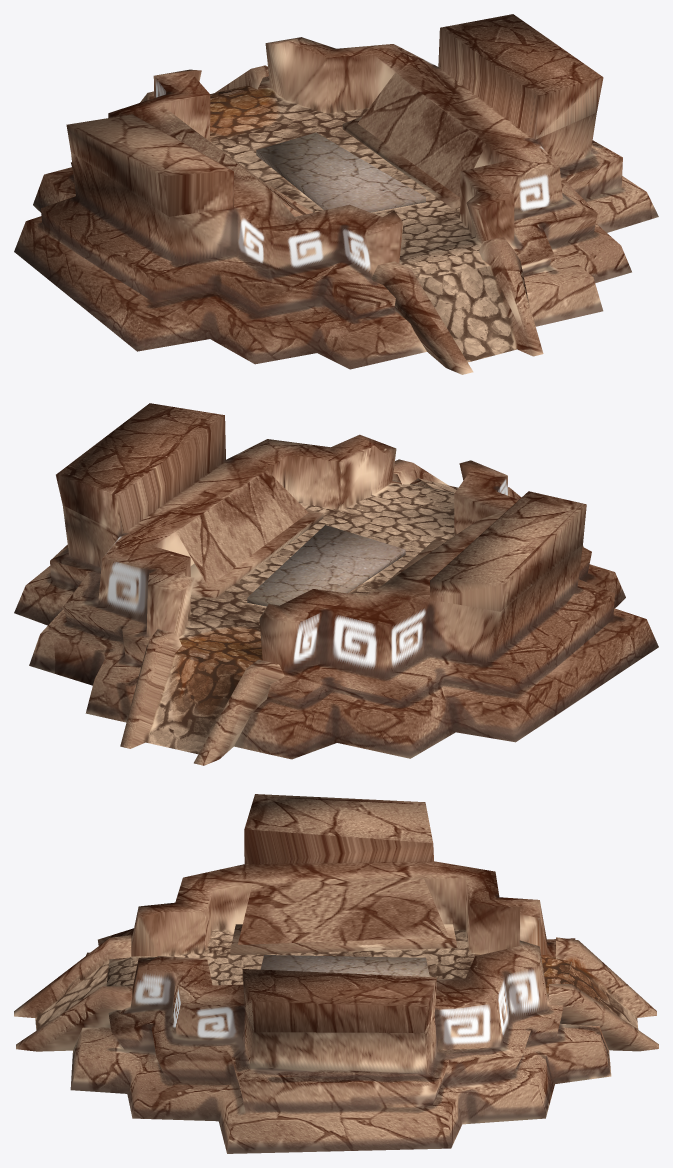
File: SoccerField.fbx
3 views of the same model, one above another, from view 1: azimuth 30°, elevation 25°; view 2: azimuth 150°, elevation 25°; view 3: azimuth 270°, elevation 25° (orthographic). The views are drawn at different scales.
Visible parts, largest first — view 1: SockerField; view 2: SockerField; view 3: SockerField.
Part boxes in pixels (left/top/right/bottom): SockerField: left=14, top=14, right=658, bottom=374; SockerField: left=14, top=403, right=658, bottom=765; SockerField: left=14, top=794, right=658, bottom=1153.
Size of the model in its own units: 2524 by 669 by 2818.
